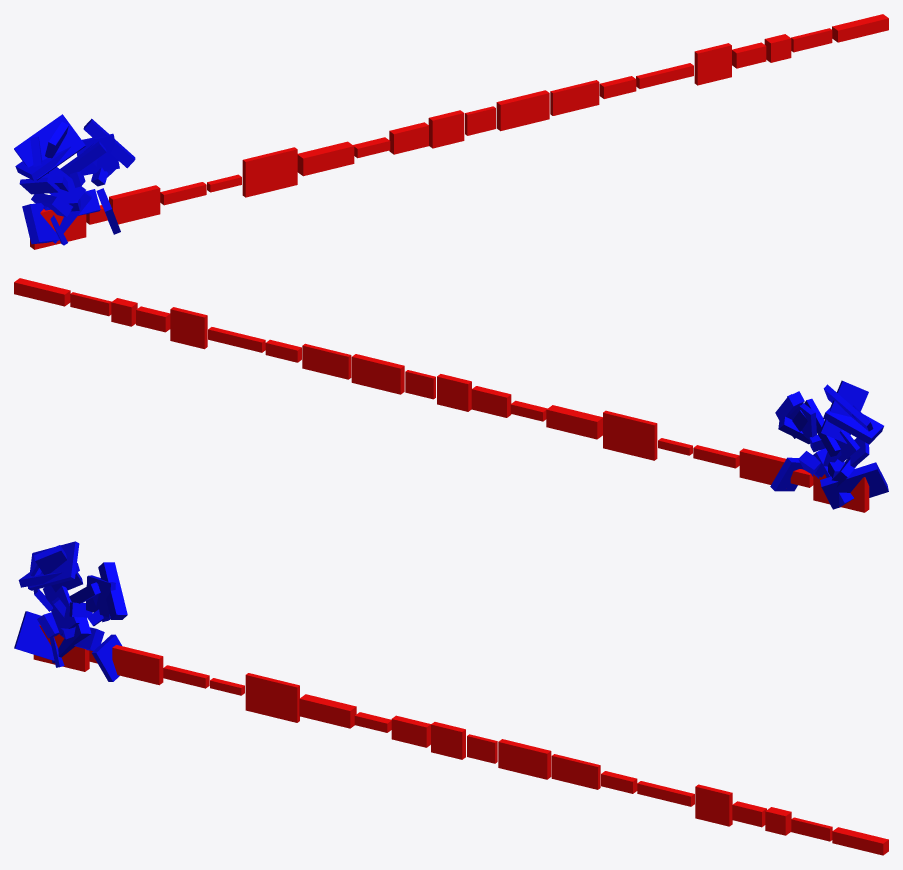
The model's file is test.layouter.flatortho.gltf.
3 views of the same model, one above another, from view 1: azimuth 30°, elevation 25°; view 2: azimuth 150°, elevation 25°; view 3: azimuth 330°, elevation 25° (orthographic).
Visible parts, largest first — view 1: shape_25, shape_31, shape_22, shape_5, shape_26, shape_35, shape_32, shape_29, shape_39, shape_28, shape_0, shape_15 (+15 smaller); view 2: shape_25, shape_31, shape_0, shape_26, shape_35, shape_32, shape_22, shape_29, shape_11, shape_28, shape_39, shape_20 (+13 smaller); view 3: shape_25, shape_31, shape_22, shape_26, shape_35, shape_32, shape_0, shape_29, shape_39, shape_28, shape_5, shape_19 (+11 smaller).
Boxes of the visible parts, x1,y1,x2,y2 form: shape_25: (242, 147, 297, 197); shape_31: (496, 90, 549, 131); shape_22: (109, 185, 160, 224); shape_5: (14, 114, 85, 180); shape_26: (297, 141, 354, 176); shape_35: (694, 43, 731, 85); shape_32: (550, 80, 599, 115); shape_29: (428, 110, 464, 148); shape_39: (832, 14, 888, 42); shape_28: (389, 122, 428, 154); shape_0: (22, 203, 59, 244); shape_15: (76, 133, 119, 175); shape_25: (603, 410, 657, 460); shape_31: (351, 354, 404, 394); shape_0: (820, 462, 888, 509); shape_26: (546, 405, 602, 439); shape_35: (170, 307, 207, 349); shape_32: (302, 343, 351, 379); shape_22: (739, 448, 785, 484); shape_29: (437, 374, 471, 411); shape_11: (820, 380, 868, 443); shape_28: (471, 386, 511, 417); shape_39: (14, 278, 70, 306); shape_20: (813, 474, 869, 512); shape_25: (245, 673, 299, 722); shape_31: (498, 739, 551, 779); shape_22: (112, 645, 163, 685); shape_26: (299, 694, 356, 728); shape_35: (695, 784, 732, 826); shape_32: (551, 754, 600, 789); shape_0: (14, 611, 54, 660); shape_29: (431, 722, 465, 759); shape_39: (832, 827, 888, 855); shape_28: (391, 715, 430, 747); shape_5: (28, 541, 79, 590); shape_19: (98, 562, 127, 619).
Size of the model in its own units: 1103 by 153 by 61.45.
